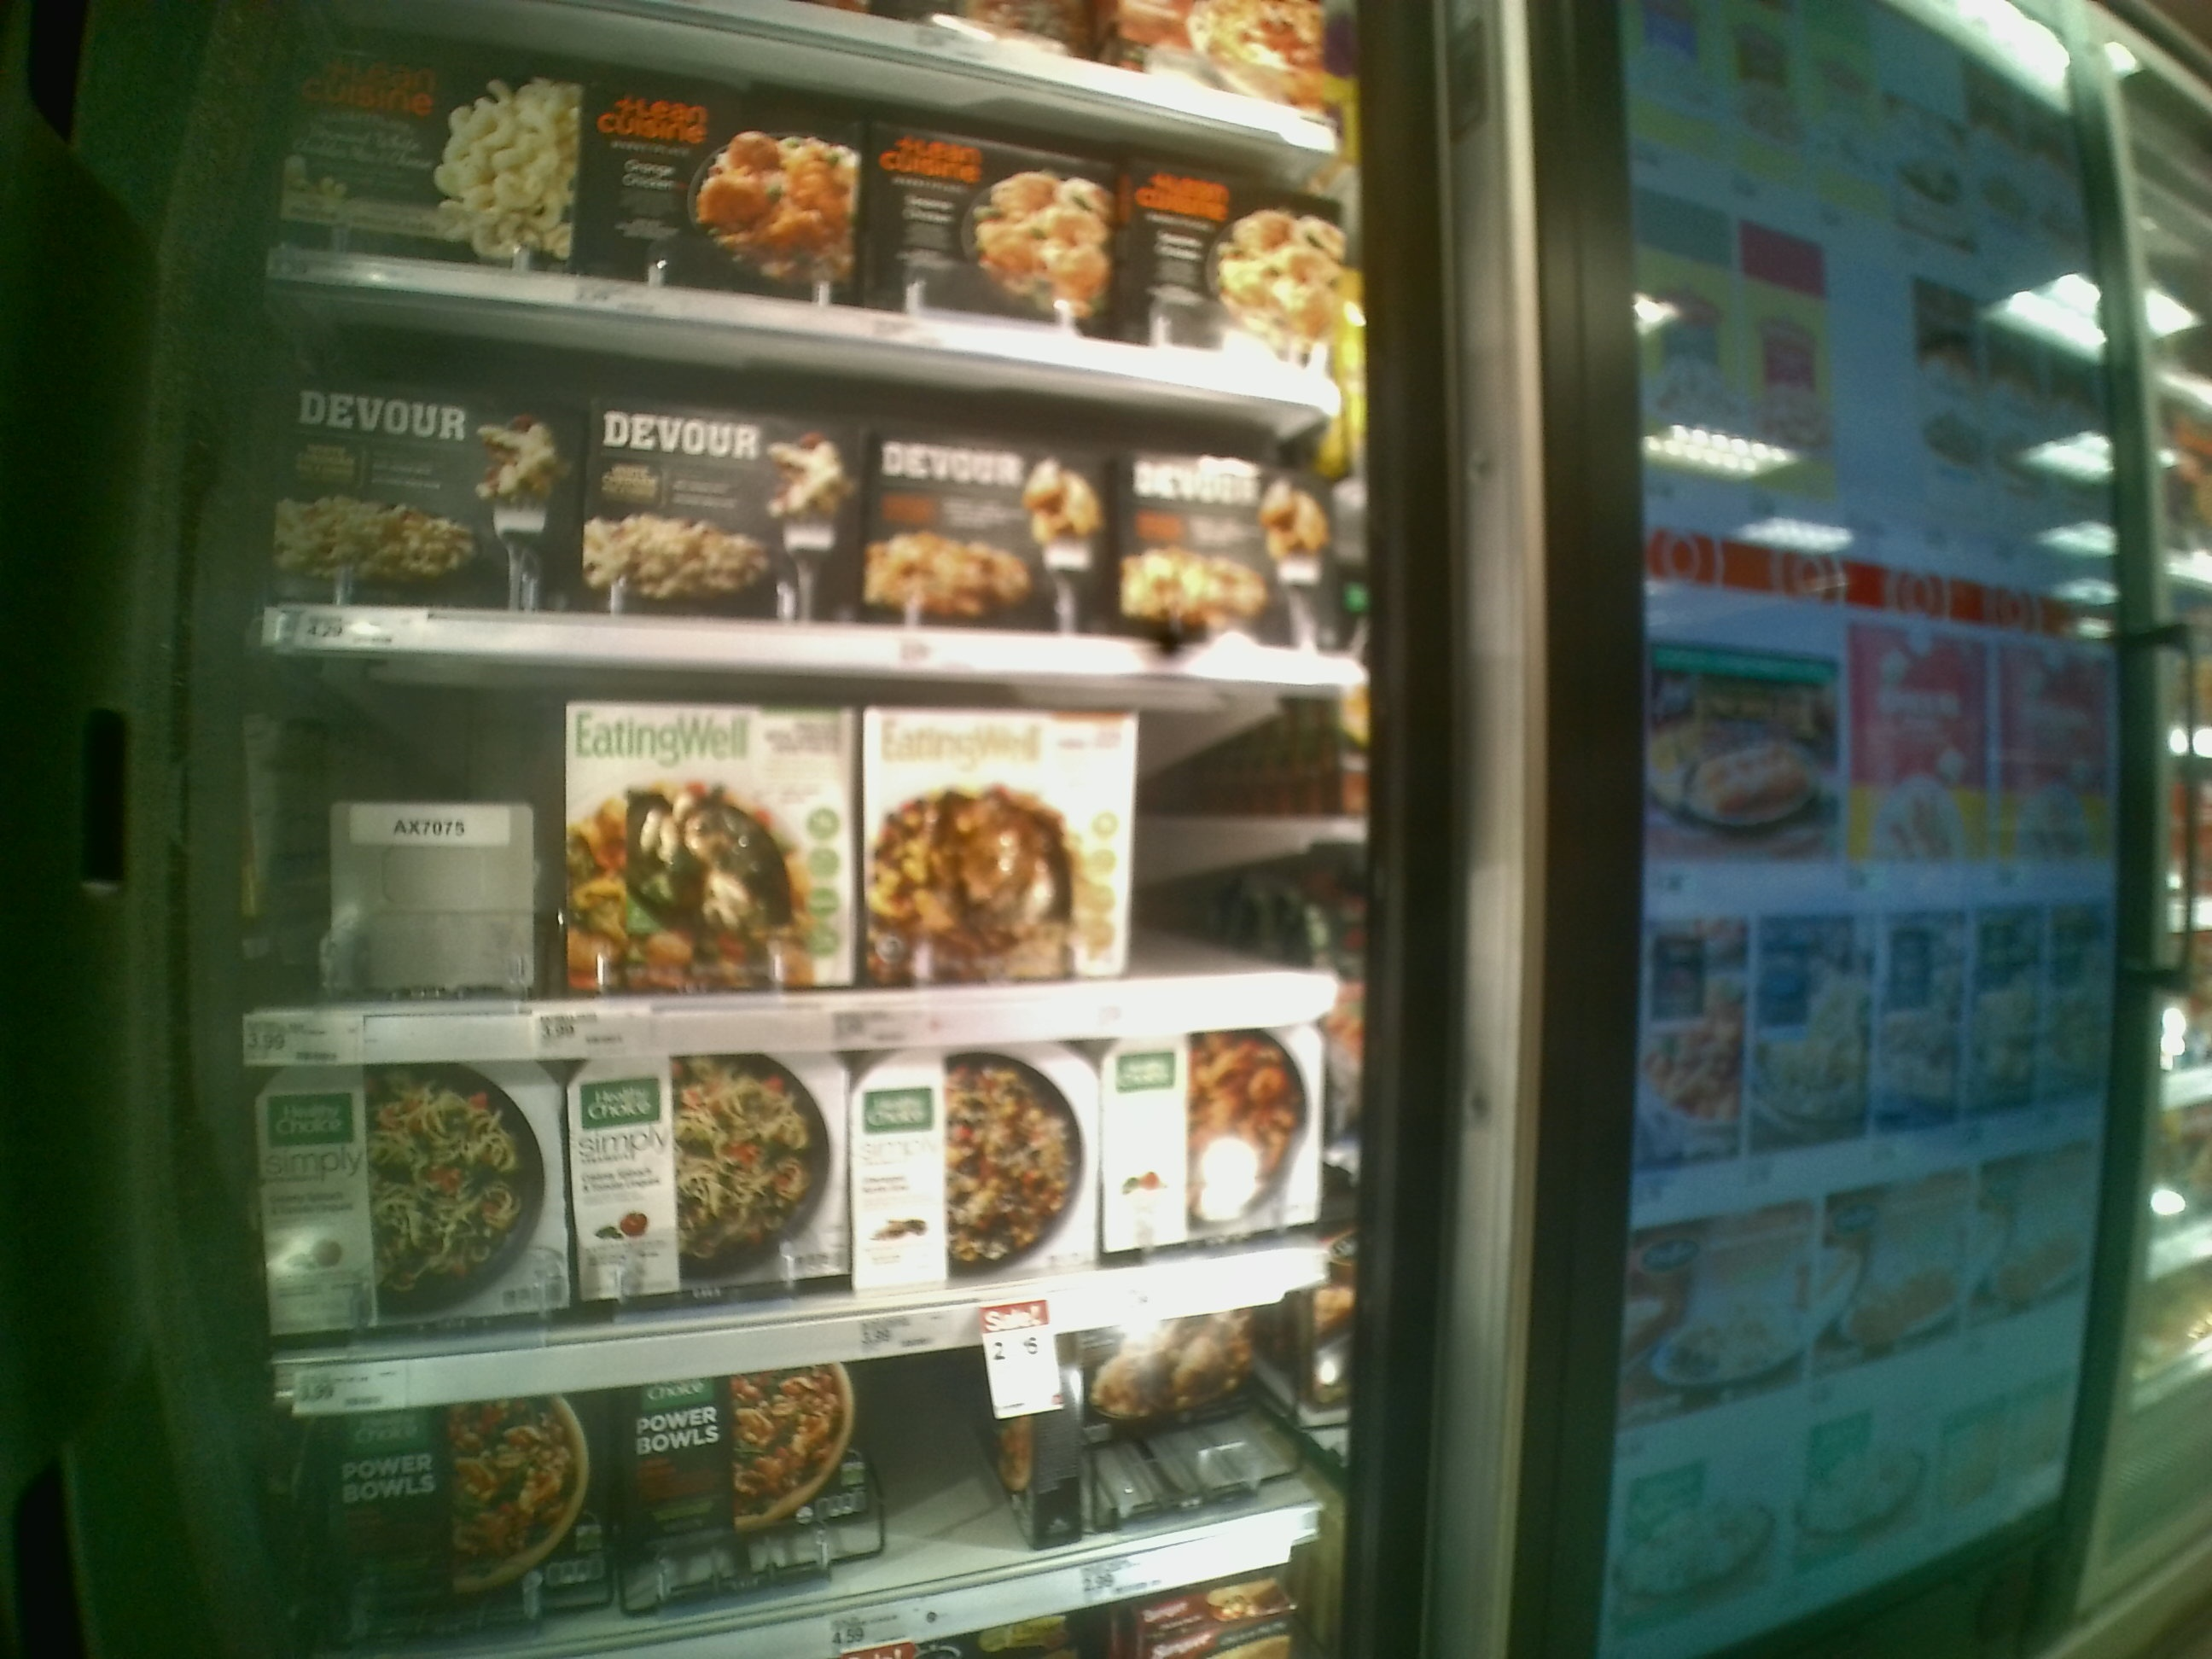pizza: (258, 1063, 571, 1337), (557, 709, 855, 988), (859, 692, 1130, 983), (577, 392, 878, 627), (280, 382, 578, 612), (577, 1054, 846, 1297), (277, 42, 571, 261), (850, 1054, 1103, 1295), (578, 73, 855, 286), (869, 108, 1120, 331), (1106, 1025, 1329, 1246), (350, 1410, 597, 1608), (873, 427, 1106, 629), (1120, 451, 1341, 657), (618, 1377, 855, 1568), (1137, 153, 1350, 355)
